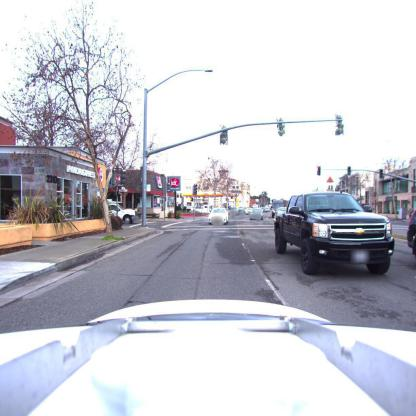car: (106, 201, 140, 224), (110, 206, 136, 226), (209, 208, 228, 224), (250, 210, 264, 221)
traffic light: (335, 114, 345, 137), (276, 115, 285, 137), (220, 126, 228, 146), (378, 166, 384, 180), (316, 166, 321, 176), (348, 167, 352, 176)
truck: (272, 192, 397, 276)
